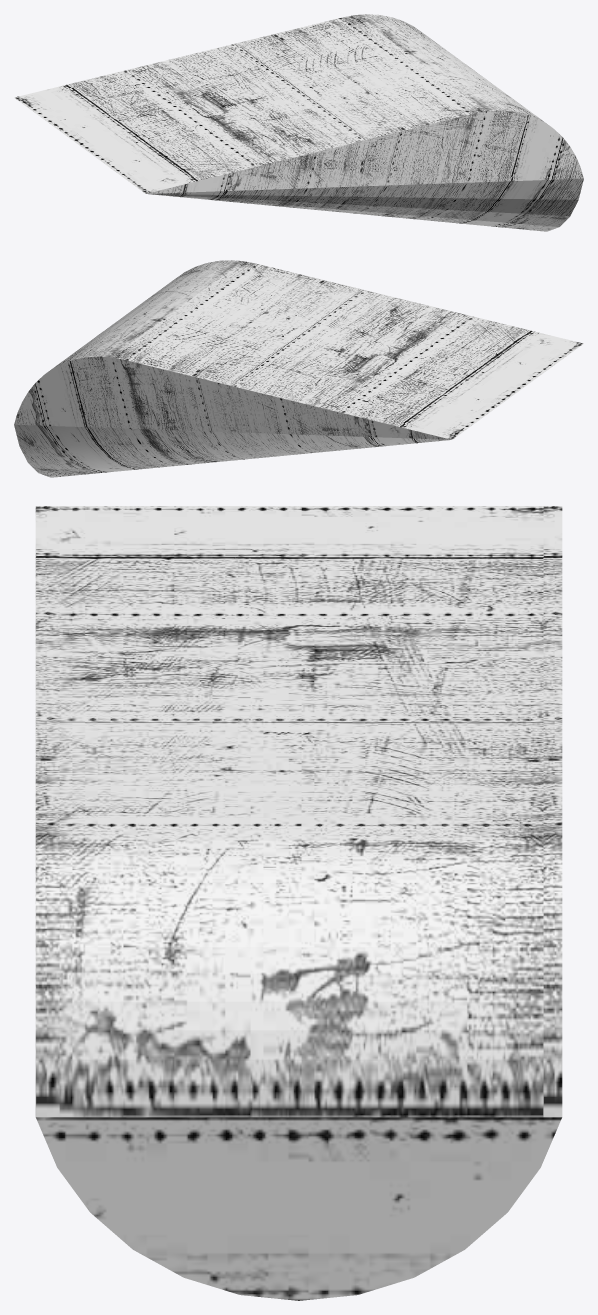
File: triangle_block.obj
The picture shows the model from 3 angles, top to bottom: view 1: azimuth 30°, elevation 25°; view 2: azimuth 150°, elevation 25°; view 3: azimuth 270°, elevation 25°; orthographic projection. The views are drawn at different scales.
Parts seen in each view (by area): view 1: Mesh1 Model; view 2: Mesh1 Model; view 3: Mesh1 Model.
Boxes of the visible parts, x1,y1,x2,y2 form: Mesh1 Model: (14,14,583,231); Mesh1 Model: (14,260,583,477); Mesh1 Model: (35,506,562,1300).
Bounding box in the file's own units: 2.5 × 1 × 1.3.
